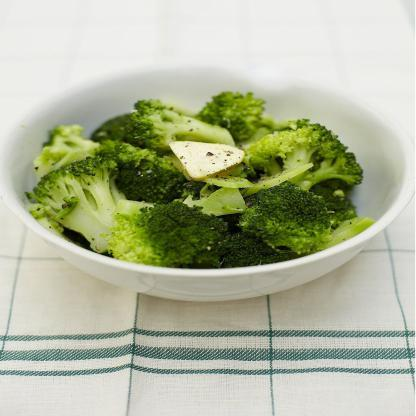broccoli: (23, 88, 376, 270)
